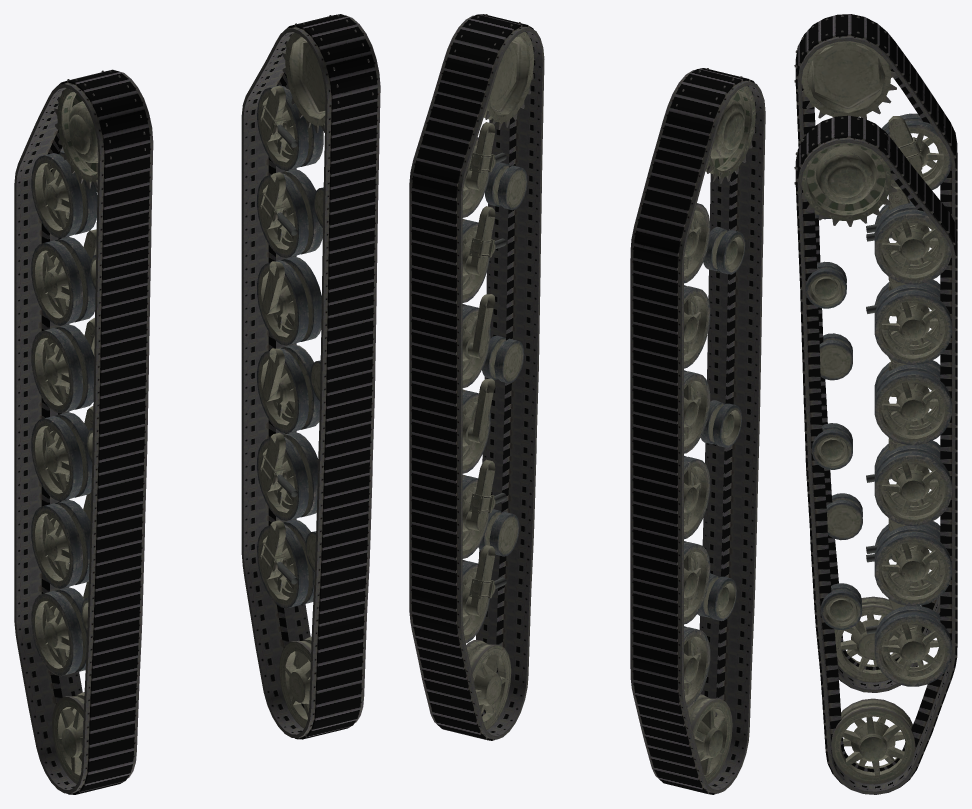
File: Chassis.glb
3 views of the same model, side by side, from view 1: azimuth 30°, elevation 25°; view 2: azimuth 150°, elevation 25°; view 3: azimuth 270°, elevation 25° (orthographic). The views are drawn at different scales.
Parts seen in each view (by area): view 1: set_0_group_0, set_1_group_0, set_2_group_0, set_3_group_0; view 2: set_0_group_0, set_1_group_0, set_3_group_0, set_2_group_0; view 3: set_3_group_0, set_1_group_0, set_2_group_0, set_0_group_0.
Boxes of the visible parts, x1,y1,x2,y2 form: set_0_group_0: (14,69,153,794); set_1_group_0: (241,14,380,739); set_2_group_0: (31,70,145,783); set_3_group_0: (257,15,373,728); set_0_group_0: (630,68,765,794); set_1_group_0: (409,14,544,740); set_3_group_0: (454,14,534,729); set_2_group_0: (676,68,755,783); set_3_group_0: (794,117,951,784); set_1_group_0: (795,115,957,794); set_2_group_0: (794,15,951,682); set_0_group_0: (795,14,957,692).
Bounding box in the file's own units: 2.35 × 5.75 × 1.29.
4 materials, 4 textured.
